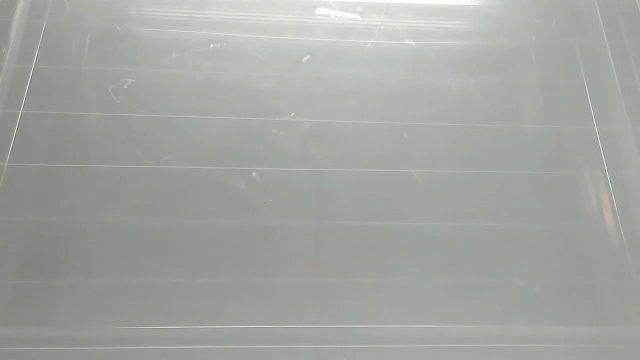alpha: (311, 3, 364, 24)
